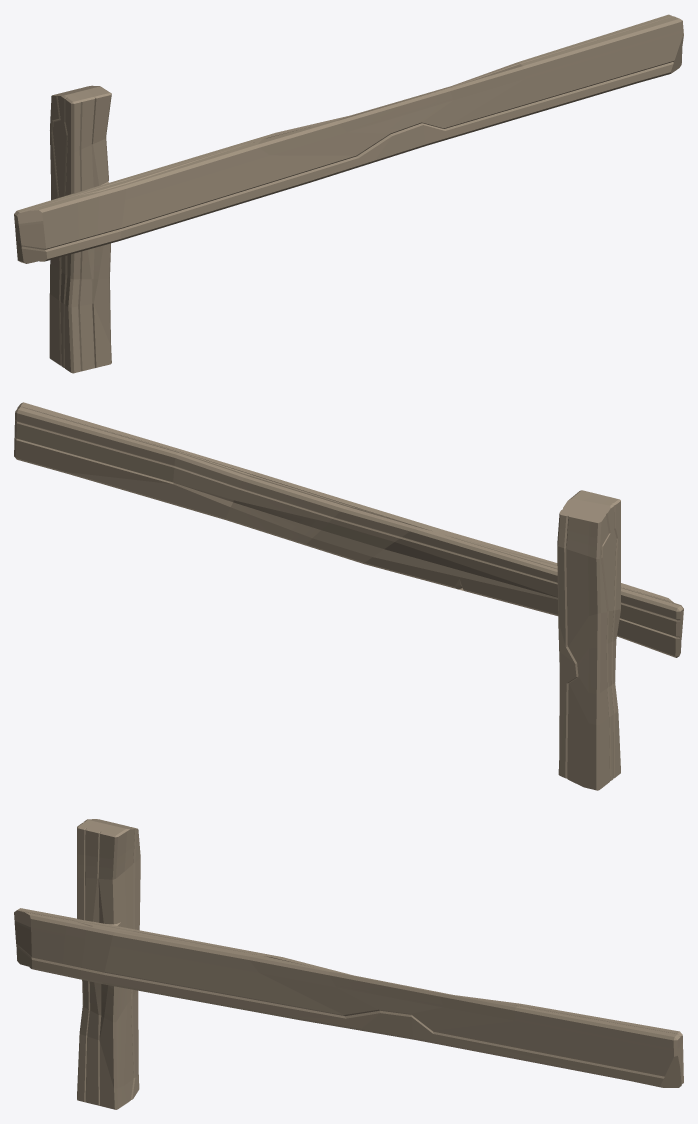
File: fence03.fbx
3 views of the same model, one above another, from view 1: azimuth 30°, elevation 25°; view 2: azimuth 150°, elevation 25°; view 3: azimuth 330°, elevation 25° (orthographic).
Parts seen in each view (by area): view 1: poutre13; view 2: poutre13; view 3: poutre13.
Part boxes in pixels (x1,y1,x2,y2): poutre13: [14, 14, 683, 373]; poutre13: [14, 402, 683, 790]; poutre13: [14, 819, 683, 1109].
Size of the model in its own units: 38.64 by 15.21 by 3.62.
